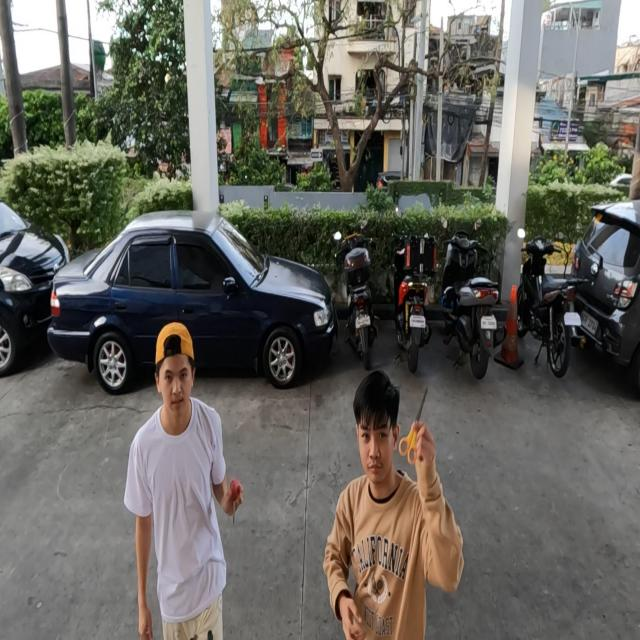scissor: (398, 386, 428, 466), (230, 478, 242, 525)
